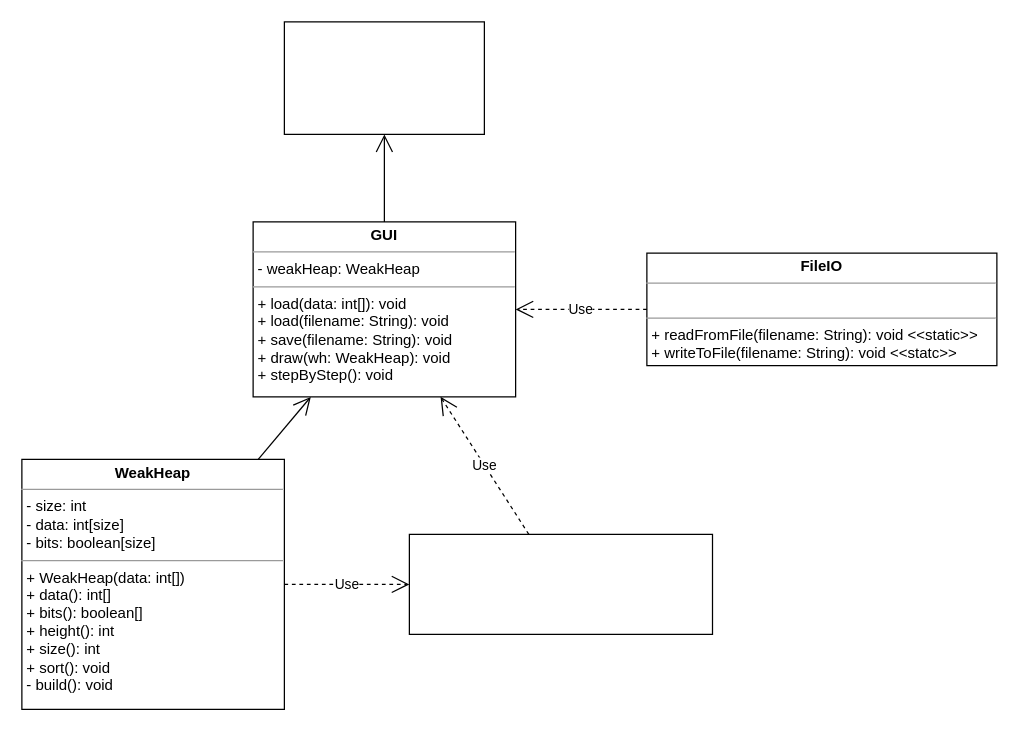
The diagram is 1019 pixels wide and 731 high, and some of its shapes have lost their labels. The centre of each missing label's shape, as x and y in pixels:
Main + main(args: String[]): void: pixel 383 77
WeakHeapRenderer + render(wh: WeakHeap): void <<static>>: pixel 560 583
